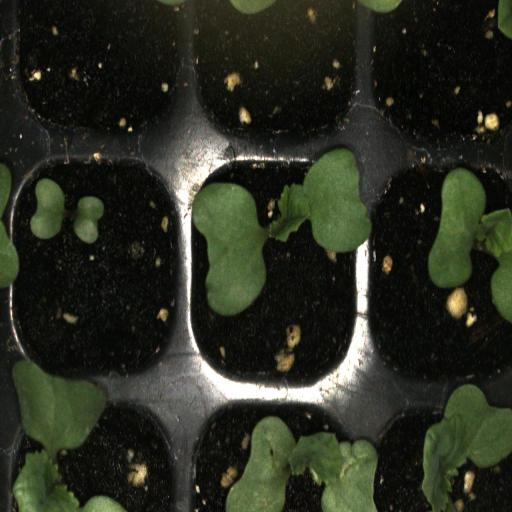Folha: (9, 357, 126, 512), (420, 384, 512, 512), (30, 178, 65, 239)
Germinacao: (186, 153, 364, 394), (8, 152, 184, 393), (363, 154, 512, 394), (183, 393, 368, 512)
